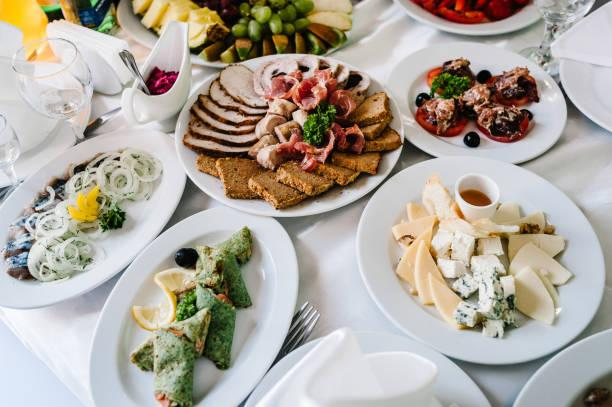Braised Crucian Carp: (354, 157, 601, 364), (92, 206, 294, 407), (174, 54, 396, 217), (0, 125, 179, 310), (388, 41, 565, 163)
